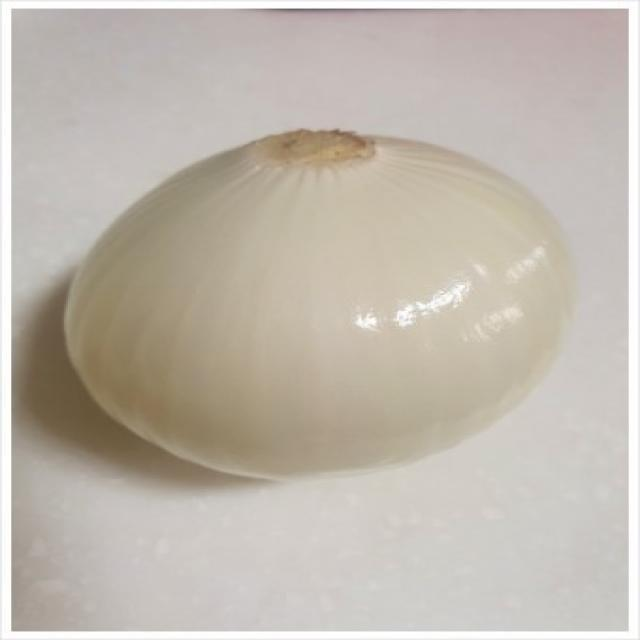onion: (44, 112, 590, 508)
